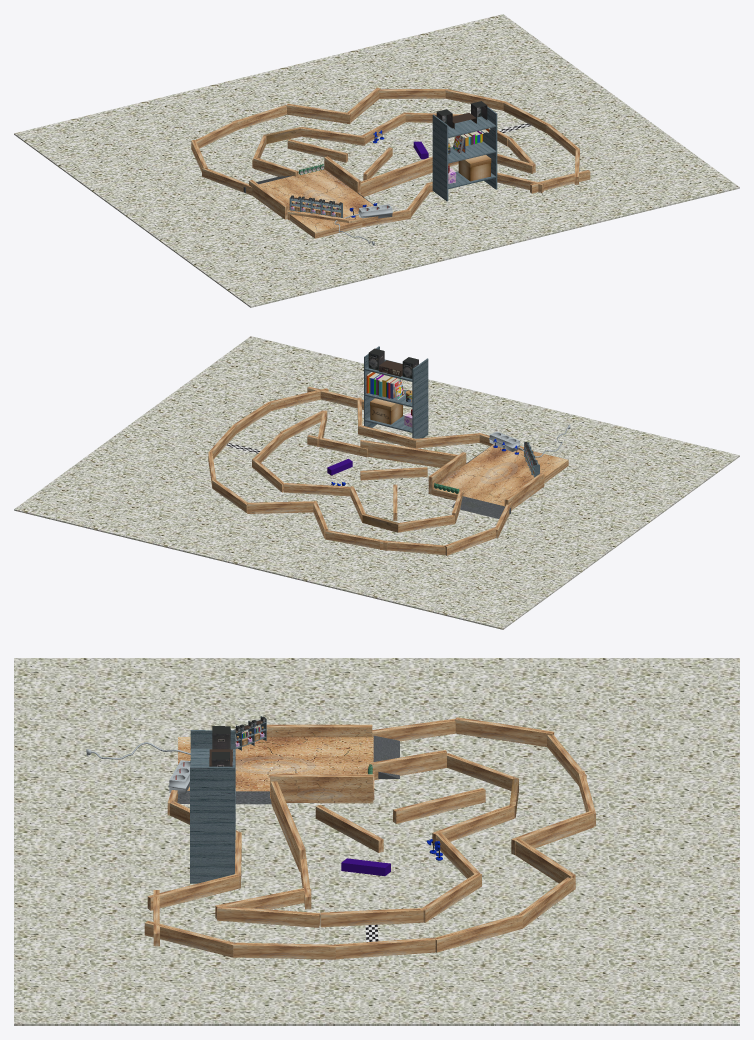
The model's file is CircuitoBasico03Experimen.DAE.
3 views of the same model, one above another, from view 1: azimuth 30°, elevation 25°; view 2: azimuth 150°, elevation 25°; view 3: azimuth 270°, elevation 25° (orthographic). The views are drawn at different scales.
Parts seen in each view (by area): view 1: Box_Suelo, Objeto_Estanteria002, Box_Lateral_005, Box_Lateral_028, Box_Lateral_018, Box_Lateral_021, Box_Lateral_017, Box_Lateral_032, Box_Lateral_02, Box_Lateral_016, Box_Lateral_030, Box_Lateral_034 (+5 smaller); view 2: Box_Suelo, Objeto_Estanteria002, Box_Lateral_005, Box_Lateral_028, Box_Lateral_004, Box_Lateral_029, Box_Lateral_022, Box_Lateral_009, Box_Lateral_035, Mesh_Rampa01, Box_Lateral_019, Box_Lateral_010 (+8 smaller); view 3: Box_Suelo, Objeto_Estanteria002, Box_Lateral_005, Box_Lateral_030, Box_Lateral_01, Box_Lateral_014, Box_Lateral_024, Box_Lateral_025, Box_Lateral_015, Box_Lateral_02, Box_Lateral_032, Box_Lateral_016 (+19 smaller).
Boxes of the visible parts, bbox=[...] form: Box_Suelo: bbox=[14, 14, 739, 307]; Objeto_Estanteria002: bbox=[432, 101, 497, 201]; Box_Lateral_005: bbox=[259, 169, 373, 238]; Box_Lateral_028: bbox=[361, 156, 432, 196]; Box_Lateral_018: bbox=[286, 103, 351, 124]; Box_Lateral_021: bbox=[301, 127, 365, 145]; Box_Lateral_017: bbox=[379, 89, 445, 98]; Box_Lateral_032: bbox=[287, 139, 347, 162]; Box_Lateral_02: bbox=[249, 179, 288, 219]; Box_Lateral_016: bbox=[445, 89, 506, 110]; Box_Lateral_030: bbox=[324, 156, 360, 194]; Box_Lateral_034: bbox=[530, 170, 590, 193]; Box_Suelo: bbox=[14, 336, 739, 629]; Objeto_Estanteria002: bbox=[364, 346, 428, 438]; Box_Lateral_005: bbox=[432, 444, 568, 506]; Box_Lateral_028: bbox=[360, 440, 458, 467]; Box_Lateral_004: bbox=[247, 501, 314, 513]; Box_Lateral_029: bbox=[360, 467, 427, 480]; Box_Lateral_022: bbox=[284, 483, 350, 496]; Box_Lateral_009: bbox=[415, 433, 479, 448]; Box_Lateral_035: bbox=[380, 540, 445, 555]; Mesh_Rampa01: bbox=[452, 496, 510, 518]; Box_Lateral_019: bbox=[325, 530, 388, 550]; Box_Lateral_010: bbox=[358, 425, 416, 448]; Box_Suelo: bbox=[14, 658, 739, 1025]; Objeto_Estanteria002: bbox=[190, 726, 235, 883]; Box_Lateral_005: bbox=[178, 737, 374, 800]; Box_Lateral_030: bbox=[270, 774, 373, 803]; Box_Lateral_01: bbox=[454, 717, 554, 746]; Box_Lateral_014: bbox=[233, 942, 335, 959]; Box_Lateral_024: bbox=[320, 908, 423, 927]; Box_Lateral_025: bbox=[217, 906, 319, 927]; Box_Lateral_015: bbox=[333, 937, 435, 959]; Box_Lateral_02: bbox=[266, 724, 372, 737]; Box_Lateral_032: bbox=[393, 788, 485, 823]; Box_Lateral_016: bbox=[435, 914, 522, 952].
Bounding box in the file's own units: 222 × 186 × 49.08.
Materials: 10 (9 with a texture image).
